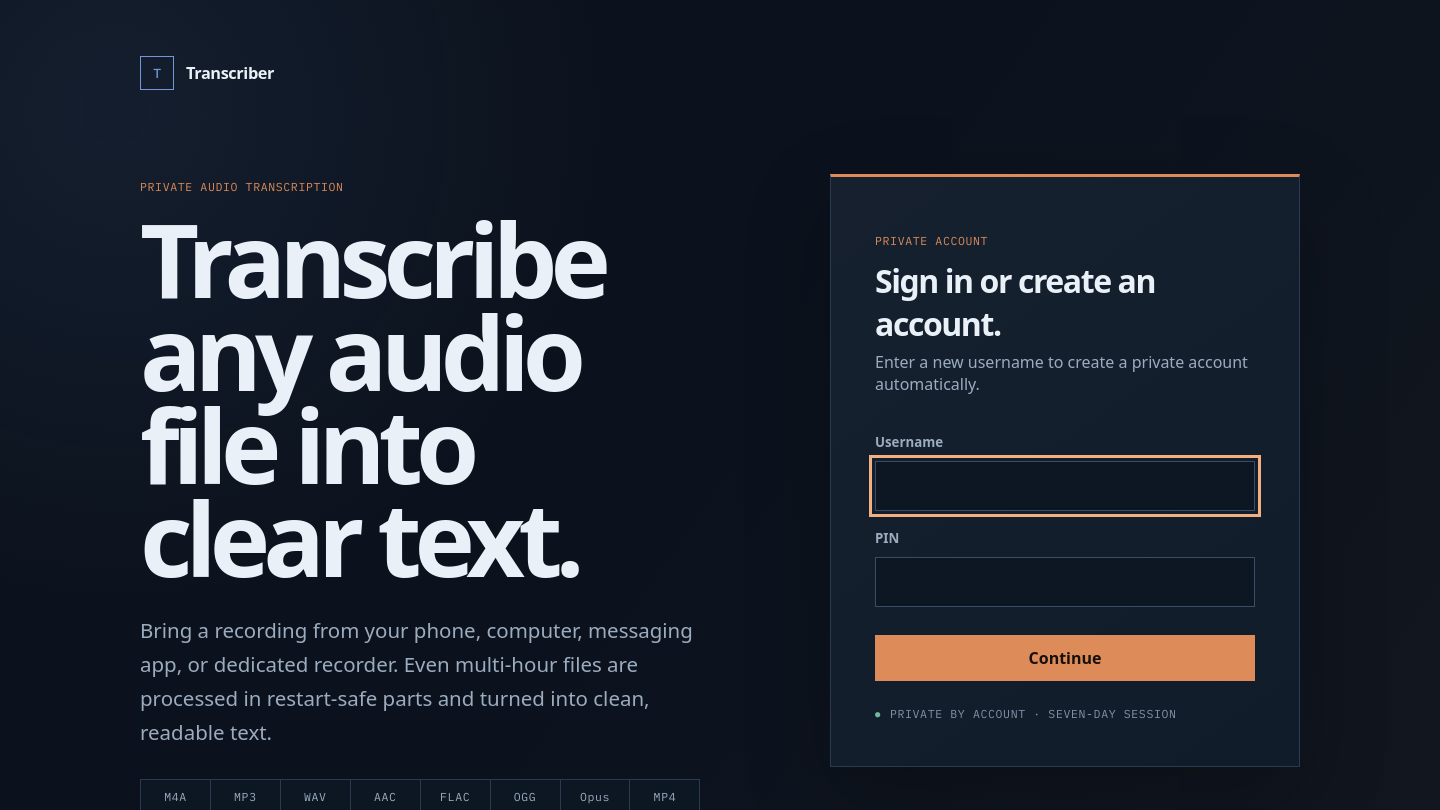
Test case: LoginPage › registers a trimmed username and opens the normalized private workspace
Step 1. Type "  AsSaD  " into the field labelled "Username" → (1065, 486), box [875,461,1255,511]
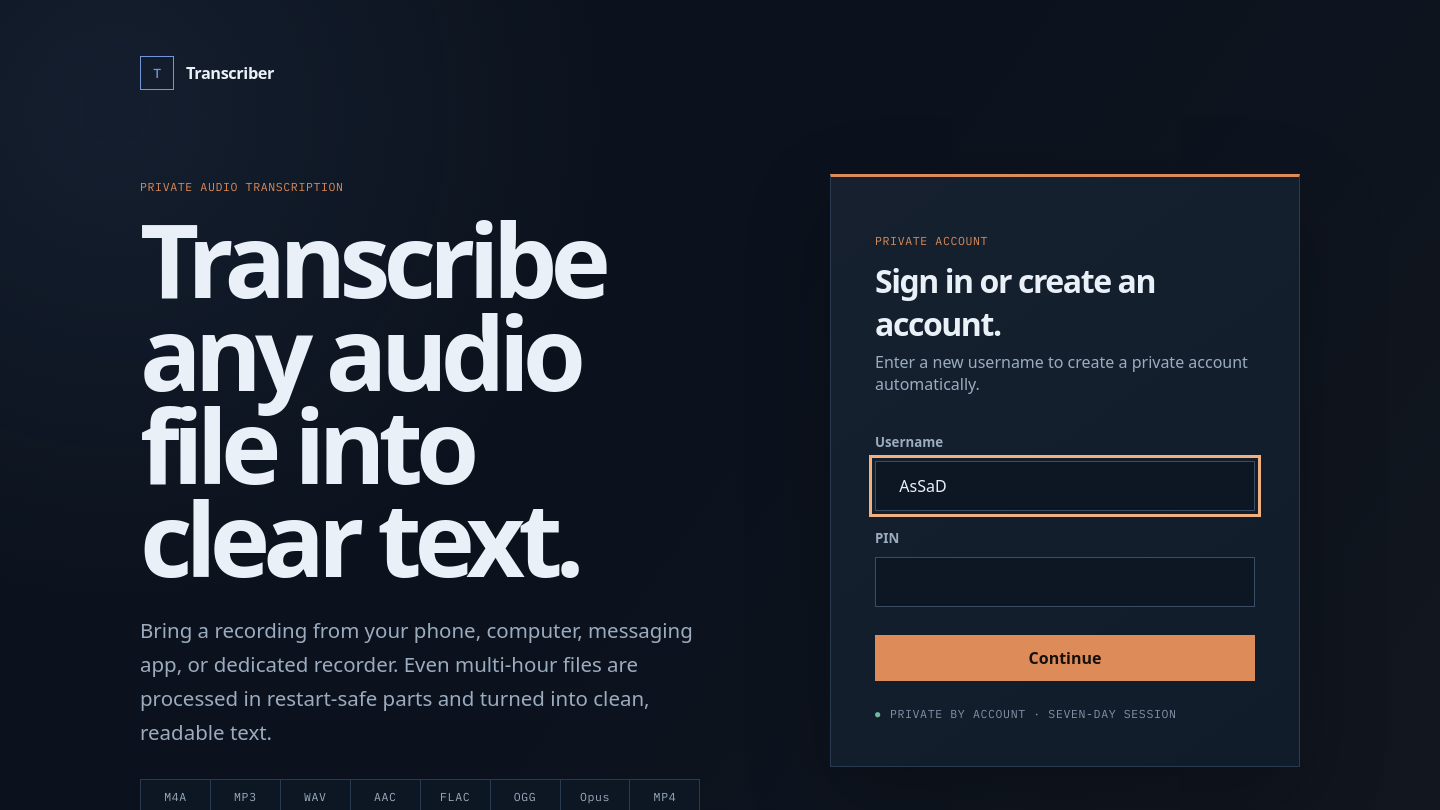
Step 2. Type "12ab3456" into the password field labelled "PIN" → (1065, 582), box [875,557,1255,607]
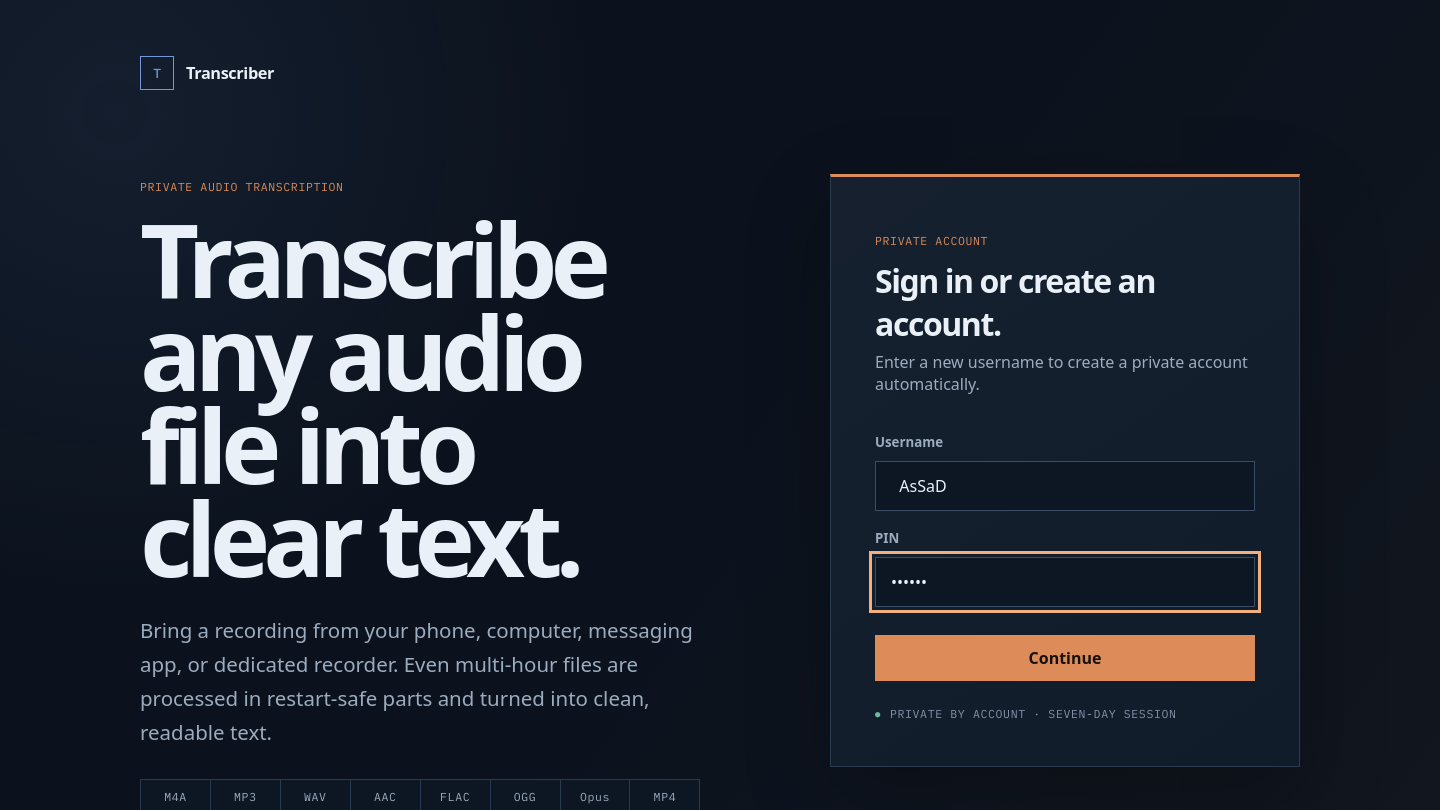
Result: the password field labelled "PIN" holds "123456" at [875,557,1255,607]
Step 3. Click the button "Continue" → (1065, 658), box [875,635,1255,681]
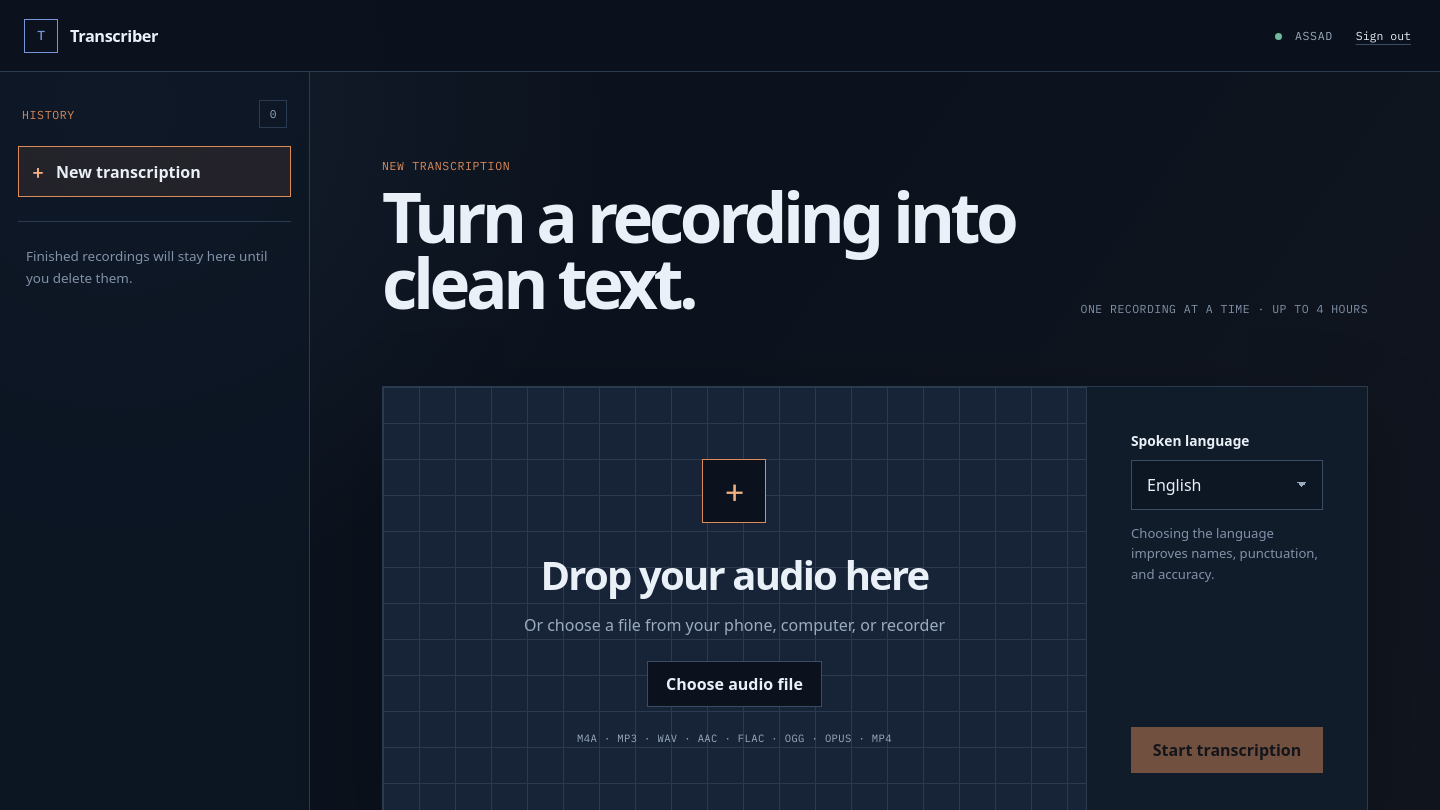
Result: the text "assad" is shown at [1276,28,1333,43]
